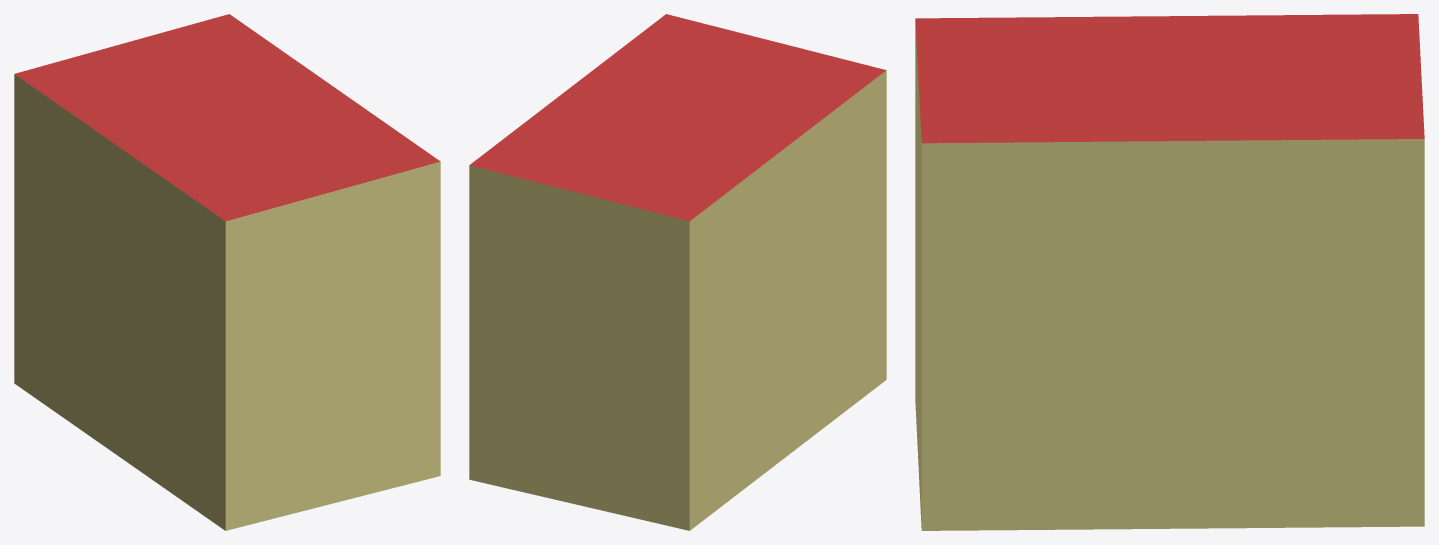
3 views of the same model, side by side, from view 1: azimuth 30°, elevation 25°; view 2: azimuth 150°, elevation 25°; view 3: azimuth 270°, elevation 25° (orthographic). The views are drawn at different scales.
Bounding box in the file's own units: 5.27 × 8.38 × 7.03.
